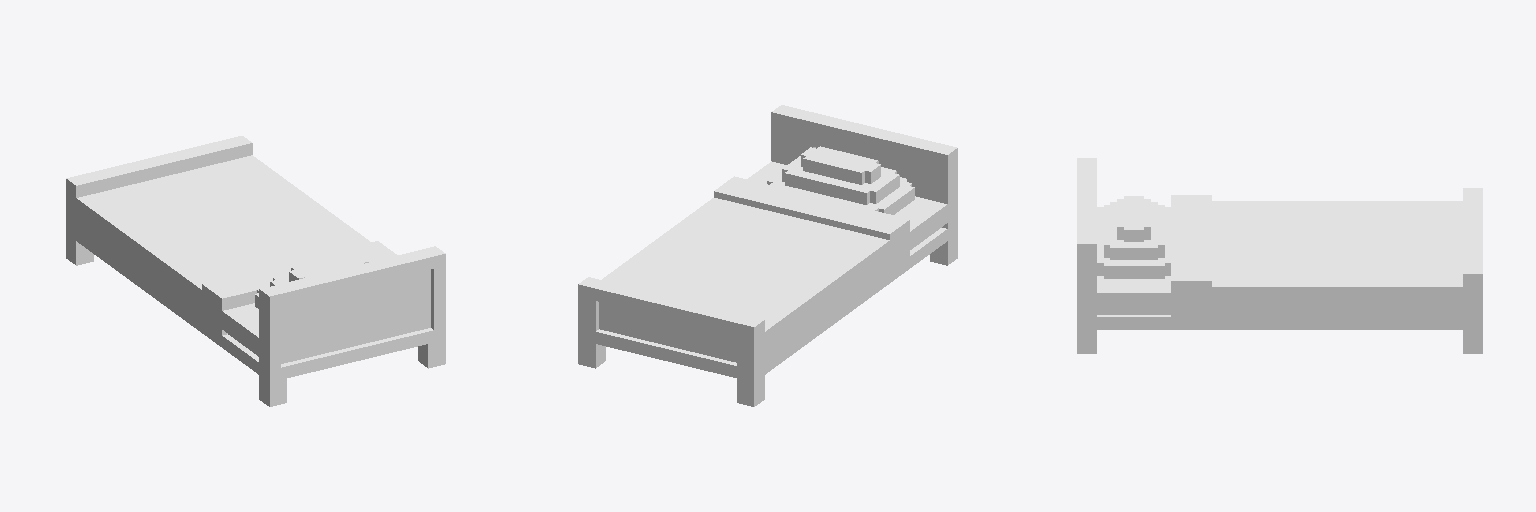
File: Character_room-2-Bed.obj
3 views of the same model, side by side, from view 1: azimuth 30°, elevation 25°; view 2: azimuth 150°, elevation 25°; view 3: azimuth 270°, elevation 25° (orthographic).
Visible parts, largest first — view 1: Bed; view 2: Bed; view 3: Bed.
Part boxes in pixels (bbox=[...]): Bed: bbox=[66, 136, 445, 406]; Bed: bbox=[578, 105, 957, 406]; Bed: bbox=[1077, 158, 1482, 353].
Bounding box in the file's own units: 3 × 1.8 × 6.